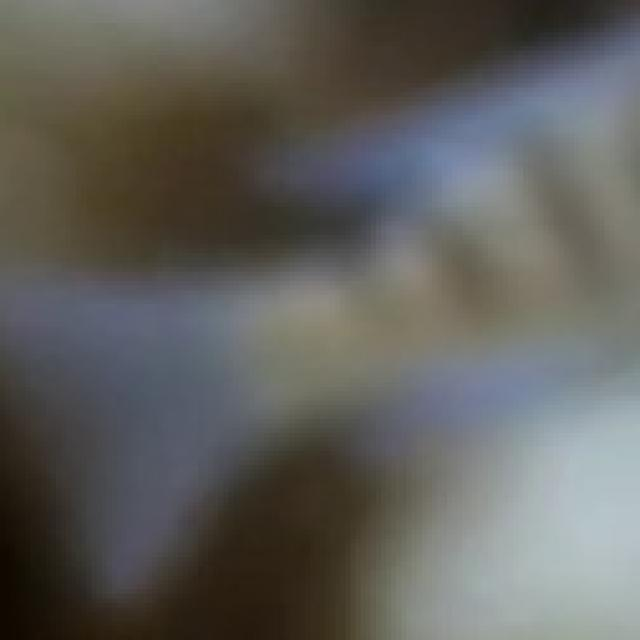fish: (0, 4, 635, 640)
